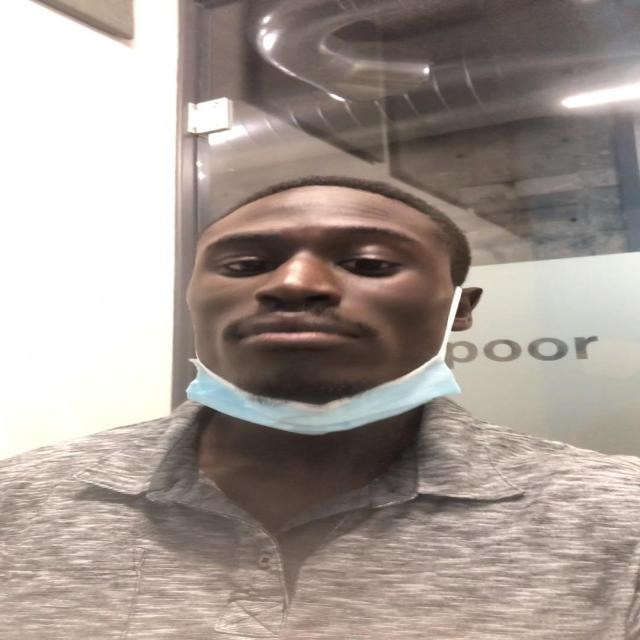face: (188, 200, 468, 396)
